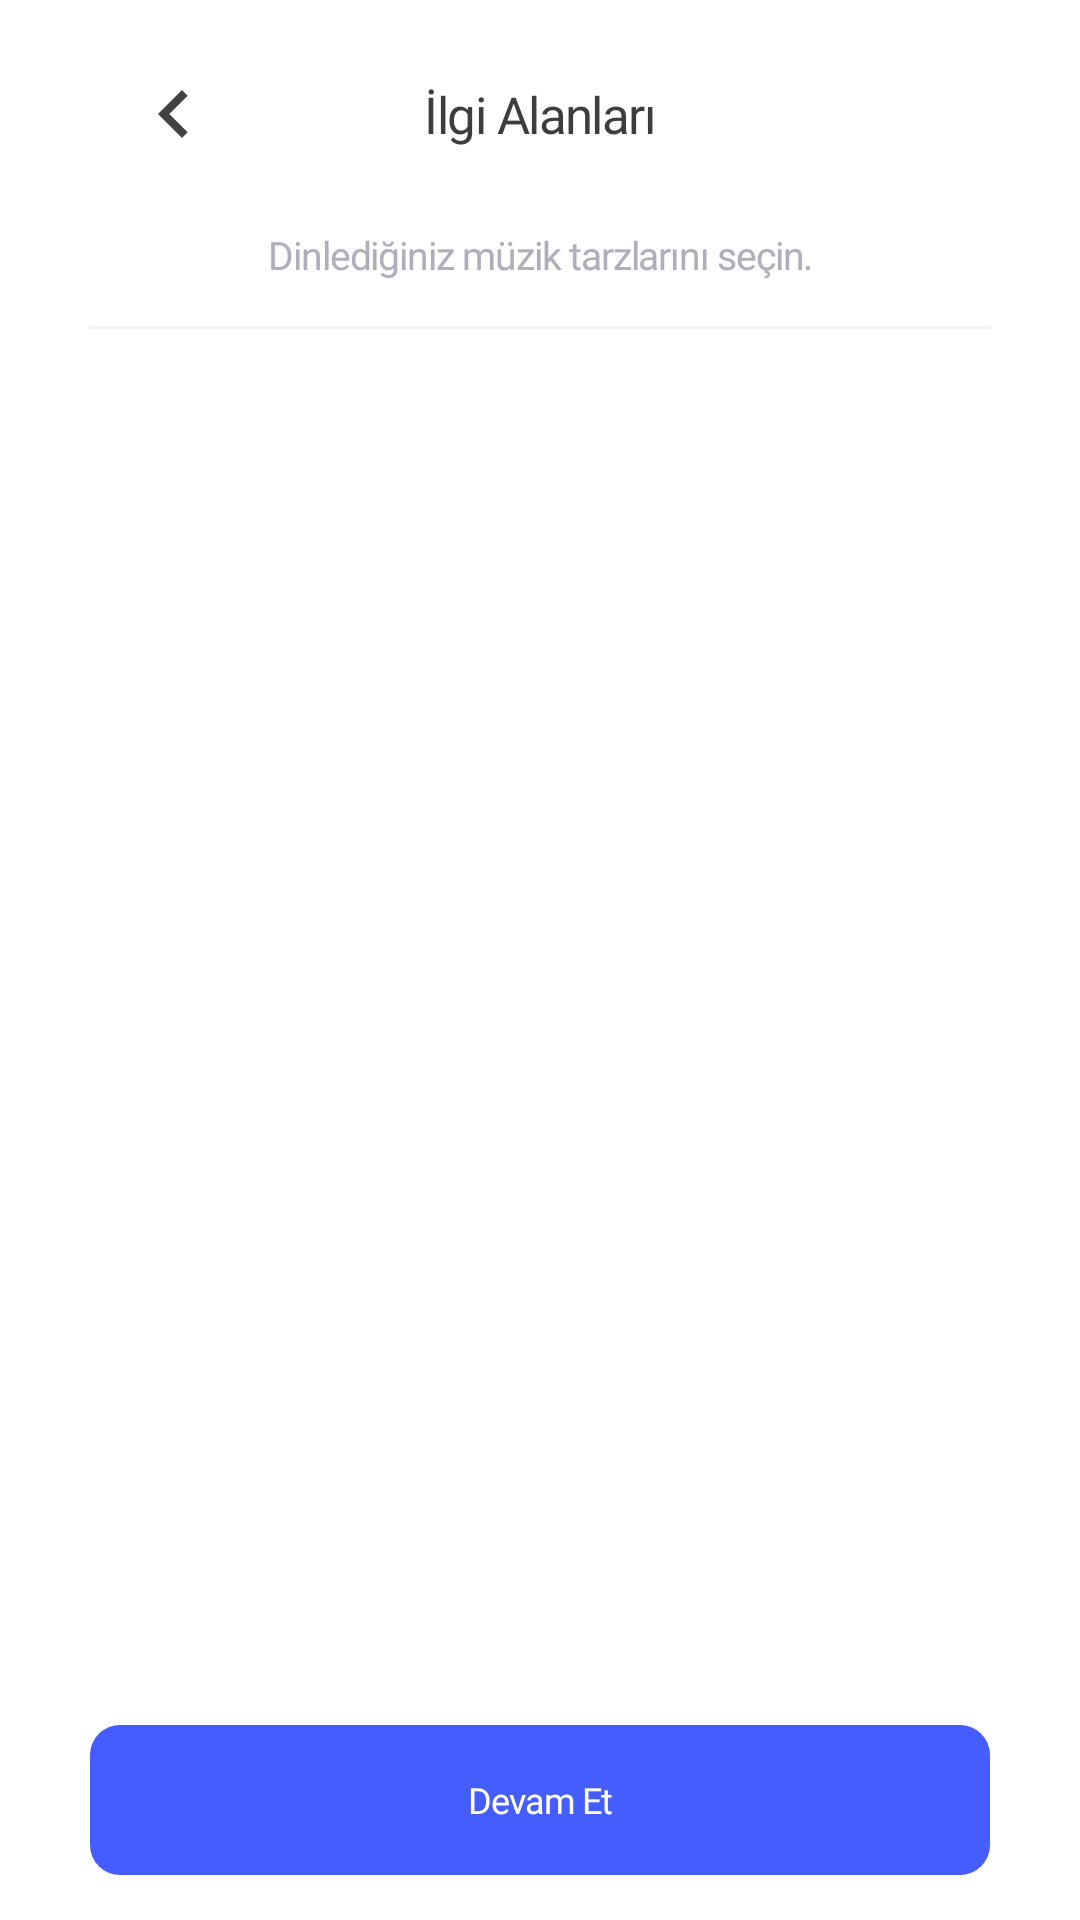

Screen size 1080*1920. Icon name, then its box in pixels as bbox=(x1, y1, x2, y2):
chevron left: bbox=(158, 90, 188, 138)
